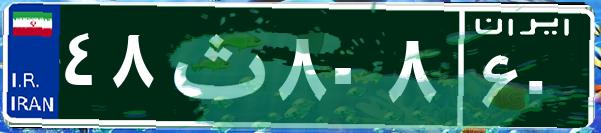0: (330, 28, 385, 110), (525, 38, 570, 115)
4: (57, 26, 110, 107)
6: (475, 38, 525, 113)
8: (385, 28, 445, 110), (273, 28, 330, 110), (110, 28, 158, 105)
ث: (158, 15, 273, 115)
